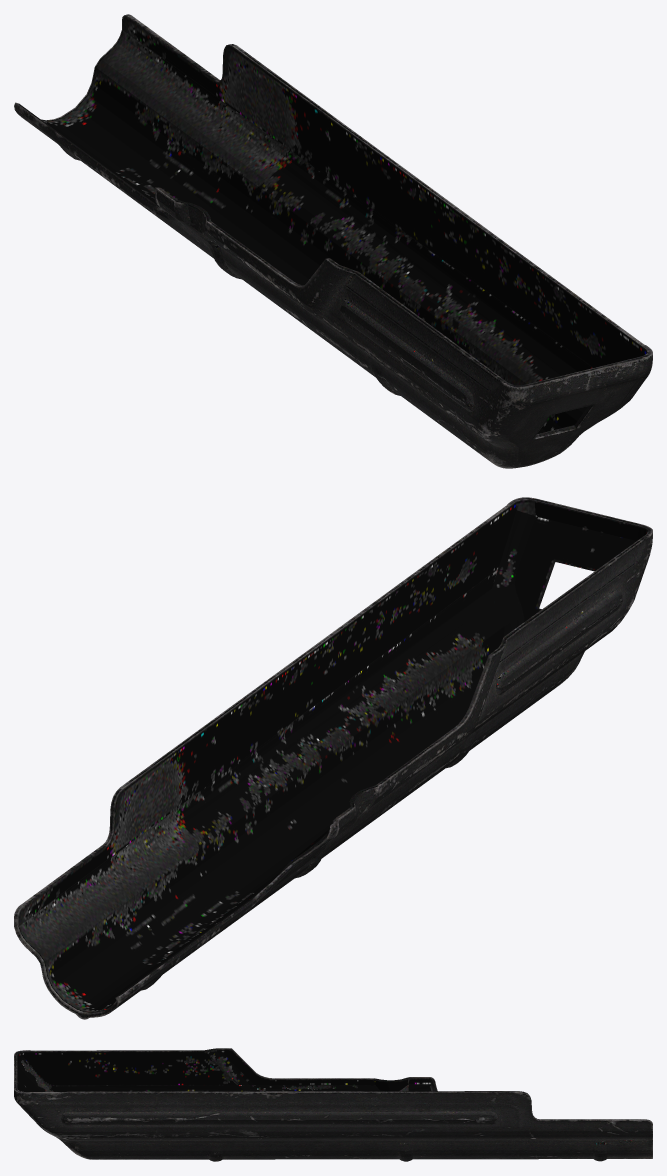
3 renders of one model, top to bottom at view 1: azimuth 30°, elevation 25°; view 2: azimuth 150°, elevation 25°; view 3: azimuth 270°, elevation 25°, orthographic. The views are drawn at different scales.
Parts seen in each view (by area): view 1: TW_5649af094bdc2df8348b4586_PZ_Import; view 2: TW_5649af094bdc2df8348b4586_PZ_Import; view 3: TW_5649af094bdc2df8348b4586_PZ_Import.
Boxes of the visible parts, x1,y1,x2,y2 form: TW_5649af094bdc2df8348b4586_PZ_Import: [14, 14, 652, 468]; TW_5649af094bdc2df8348b4586_PZ_Import: [14, 497, 652, 1019]; TW_5649af094bdc2df8348b4586_PZ_Import: [14, 1048, 652, 1161].
Size of the model in its own units: 0.0238 by 0.1356 by 0.0206.
1 material, 1 textured.
